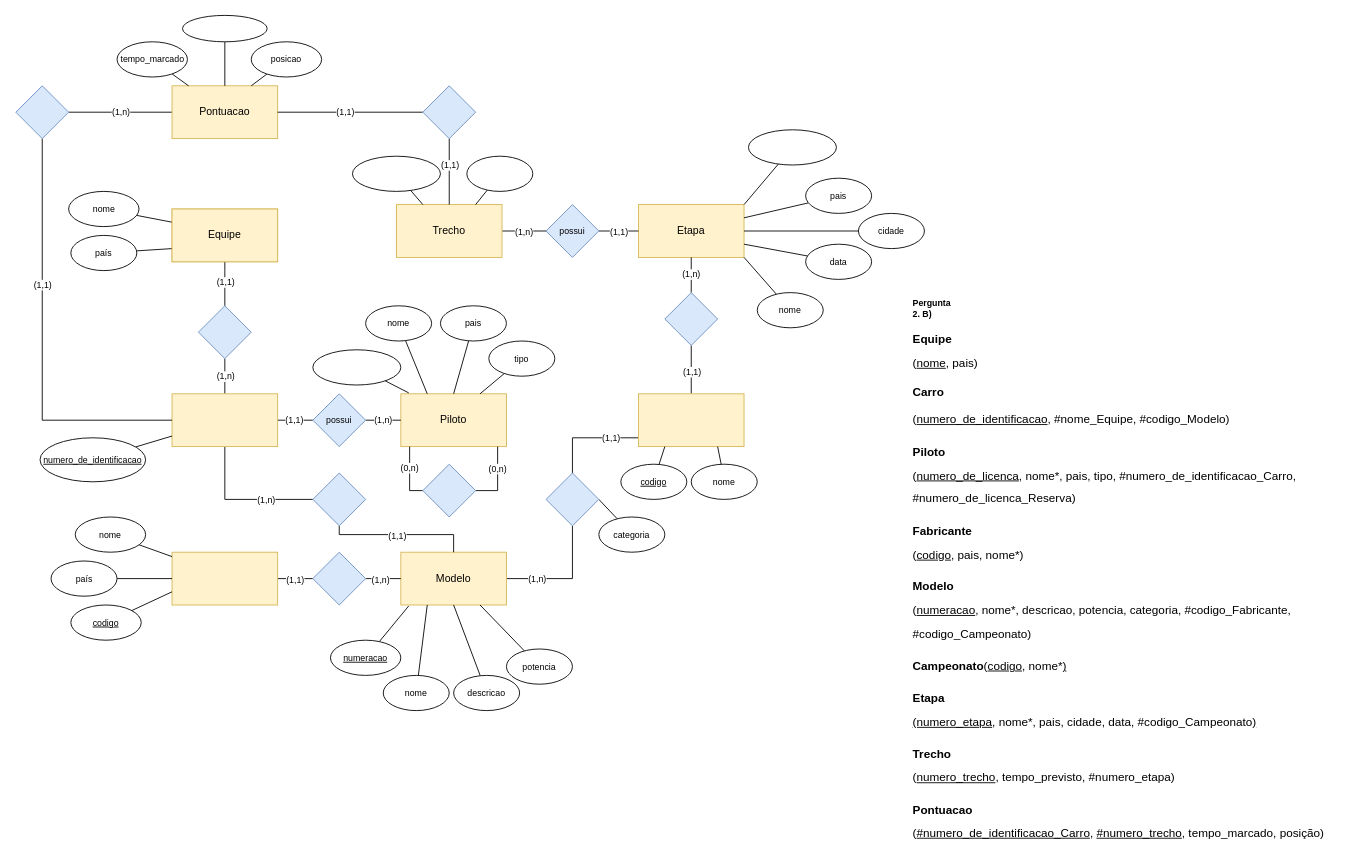
Some shapes in this 1357 by 862 pixel diagram are drawn without their labels. The shapes that lost their labels are listed below. From the top down, each one's centre as x and y in pixels, then its label:
the point at 224,28: media_posicao_final
the point at 42,112: obtem
the point at 449,112: marca
the point at 792,147: numero_etapa
the point at 396,173: numero_trecho
the point at 499,173: tempo_previsto
the point at 224,332: inscreve
the point at 691,318: organiza
the point at 356,367: numero_de_licenca
the point at 224,420: Carro
the point at 691,420: Campeonato
the point at 339,499: cria
the point at 449,490: reserva
the point at 572,499: categoriza
the point at 224,578: Fabricante
the point at 339,578: fabrica
